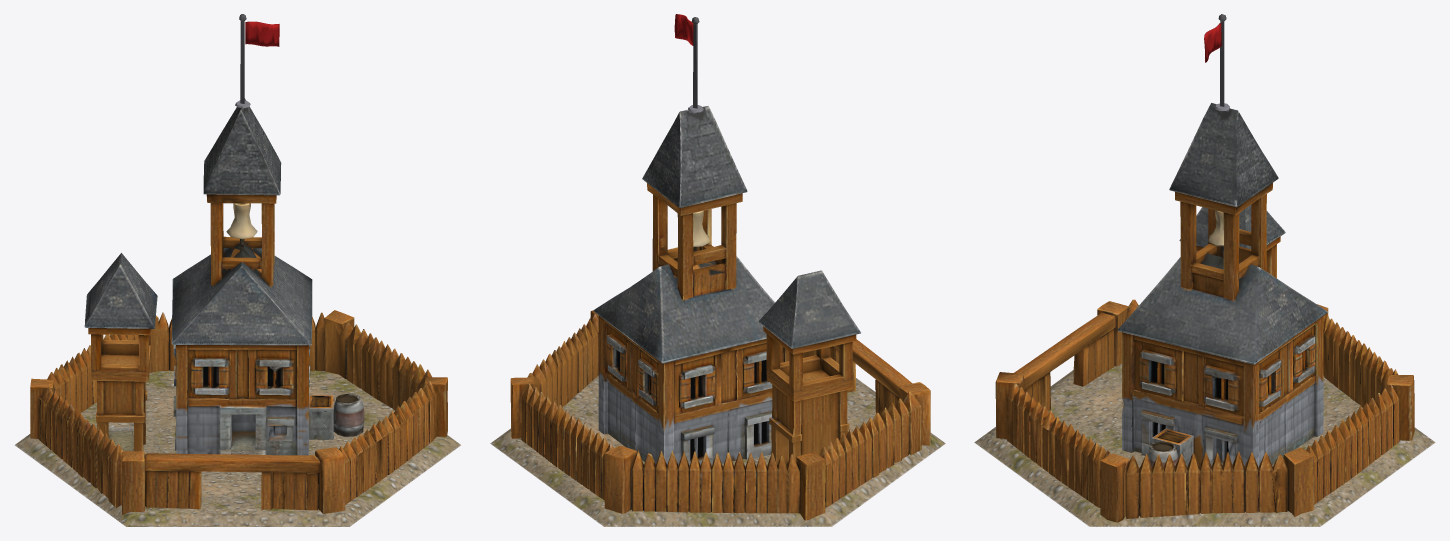
File: settlement.glb
3 views of the same model, side by side, from view 1: azimuth 30°, elevation 25°; view 2: azimuth 150°, elevation 25°; view 3: azimuth 270°, elevation 25° (orthographic). The views are drawn at different scales.
Visible parts, largest first — view 1: architecture, ground, order-cloth; view 2: architecture, ground; view 3: architecture, ground.
Part boxes in pixels (bbox=[...]): architecture: bbox=[30, 14, 447, 514]; ground: bbox=[14, 370, 461, 526]; order-cloth: bbox=[245, 21, 279, 46]; architecture: bbox=[510, 17, 930, 520]; ground: bbox=[490, 375, 945, 526]; architecture: bbox=[995, 14, 1414, 522]; ground: bbox=[974, 363, 1435, 526].
Bounding box in the file's own units: 1.59 × 1.91 × 1.84.
3 materials, 3 textured.
